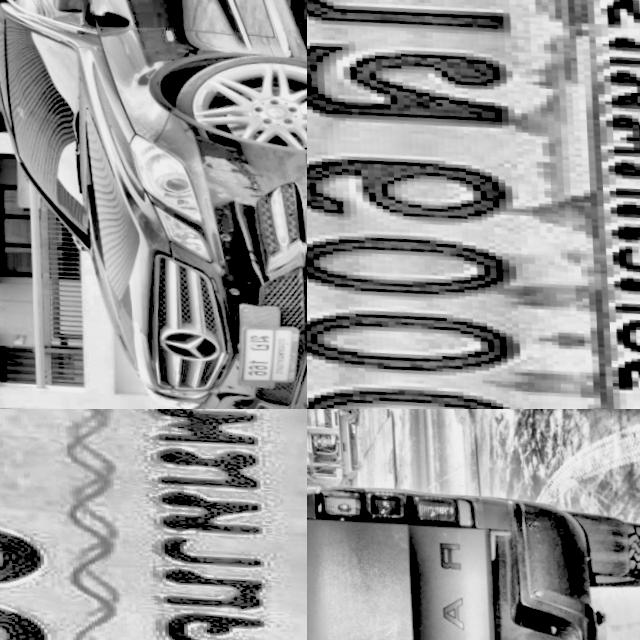license-plate: (307, 0, 640, 409), (0, 409, 307, 640), (236, 312, 298, 380)
